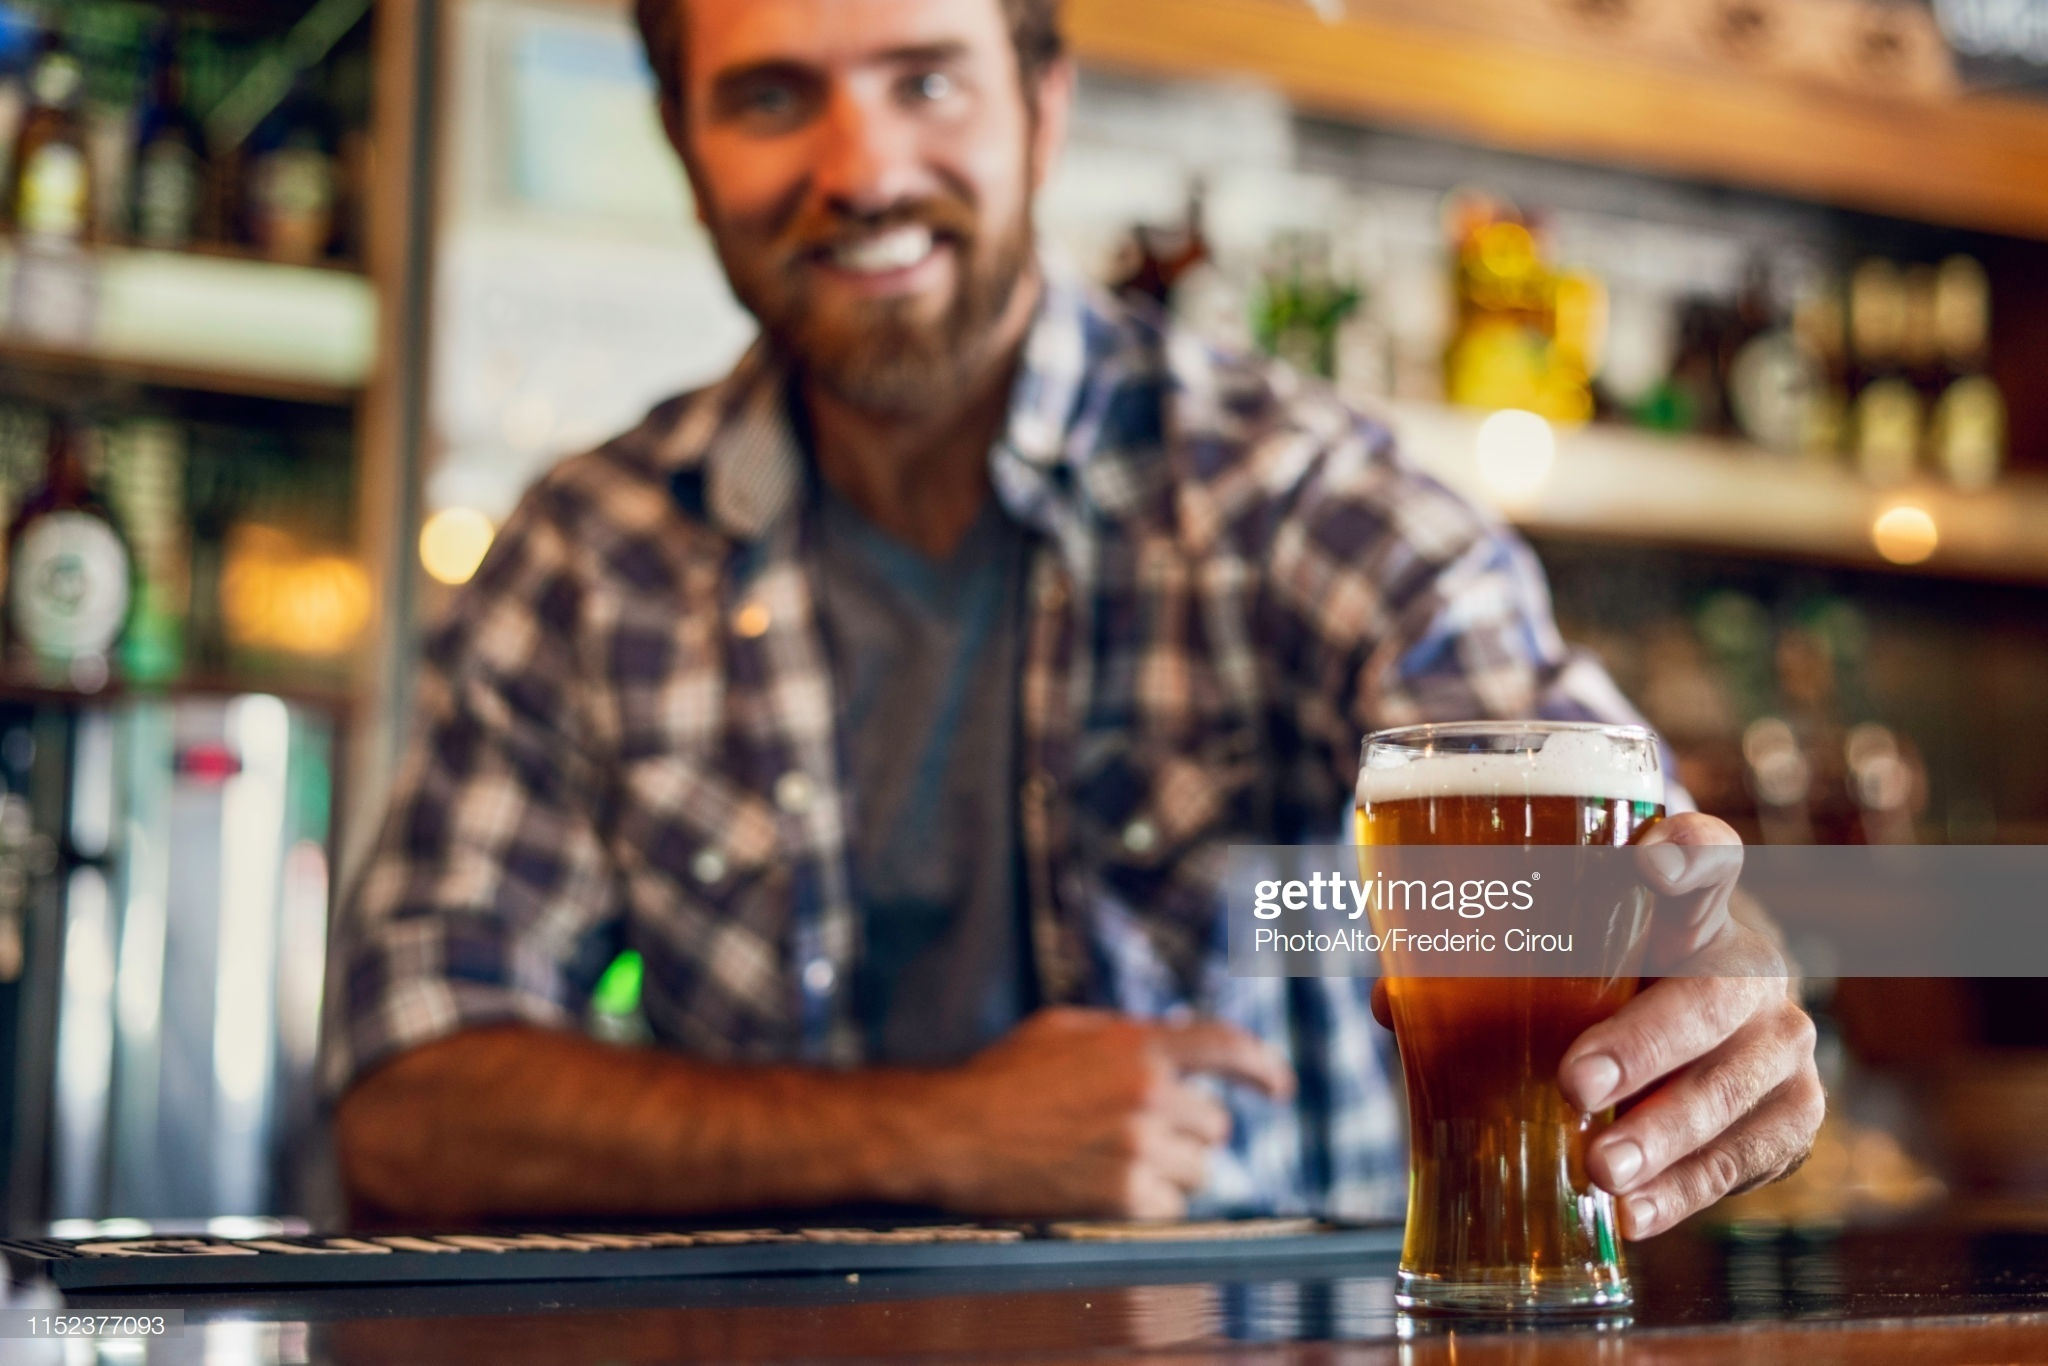whiskey: (1371, 727, 1662, 1323)
